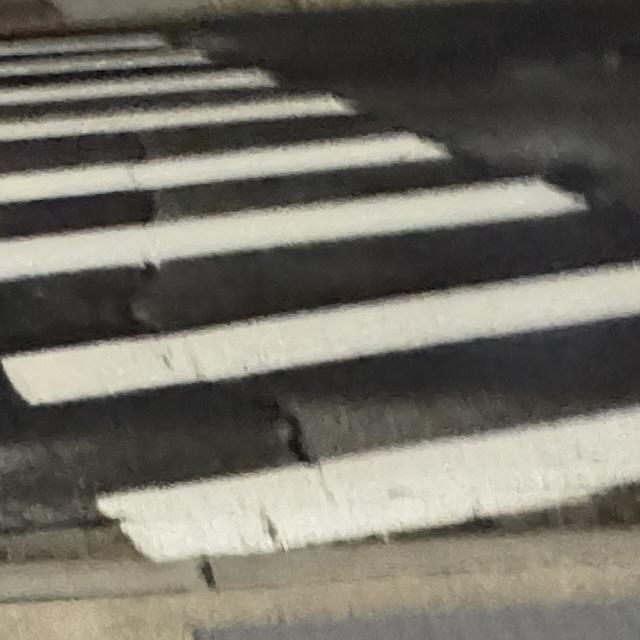curb: (0, 527, 639, 602)
